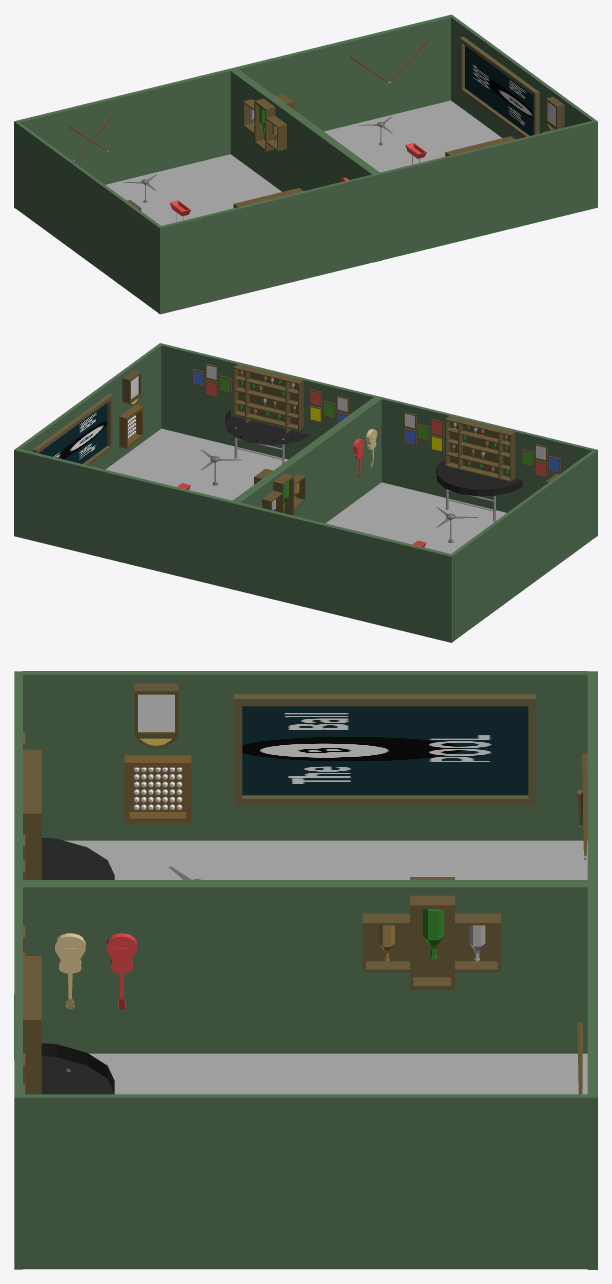
The model's file is level4.fbx.
The picture shows the model from 3 angles, top to bottom: view 1: azimuth 30°, elevation 25°; view 2: azimuth 150°, elevation 25°; view 3: azimuth 270°, elevation 25°; orthographic projection. The views are drawn at different scales.
Visible parts, largest first — view 1: Front.001, Front.002, Plane.001, Plane.002, Side.001, Plane, Floor.002, Floor.001, Plane.035, Side.002, Plane.017, Plane.009 (+1 smaller); view 2: Plane.001, Plane.002, Side.001, Front.002, Front.001, Plane, Floor.001, Floor.002, Side.002, Plane.003, Plane.010, Plane.035 (+6 smaller); view 3: Side.002, Plane.009, Side.001, Plane.025, Floor.002, Floor.001, Plane.030, Plane.024, Plane.002, Front.002, Circle.027, Plane.023 (+9 smaller).
Boxes of the visible parts, bbox=[...] form: Front.001: bbox=[158, 174, 374, 314]; Front.002: bbox=[380, 120, 597, 259]; Plane.001: bbox=[14, 68, 235, 208]; Plane.002: bbox=[233, 14, 453, 131]; Side.001: bbox=[16, 122, 161, 312]; Plane: bbox=[230, 70, 378, 262]; Floor.002: bbox=[324, 100, 502, 172]; Floor.001: bbox=[105, 154, 281, 225]; Plane.035: bbox=[459, 36, 539, 137]; Side.002: bbox=[451, 16, 595, 139]; Plane.017: bbox=[243, 98, 286, 151]; Plane.009: bbox=[234, 69, 382, 261]; Plane.001: bbox=[233, 501, 453, 642]; Plane.002: bbox=[14, 448, 234, 589]; Side.001: bbox=[451, 450, 595, 640]; Front.002: bbox=[159, 343, 375, 459]; Front.001: bbox=[381, 397, 597, 536]; Plane: bbox=[236, 396, 383, 523]; Floor.001: bbox=[326, 482, 506, 553]; Floor.002: bbox=[106, 428, 288, 500]; Side.002: bbox=[17, 344, 161, 469]; Plane.003: bbox=[233, 364, 303, 433]; Plane.010: bbox=[445, 416, 515, 481]; Plane.035: bbox=[33, 394, 112, 465]; Side.002: bbox=[22, 1094, 588, 1268]; Plane.009: bbox=[14, 883, 587, 1059]; Side.001: bbox=[22, 671, 587, 840]; Plane.025: bbox=[234, 694, 536, 805]; Floor.002: bbox=[23, 1053, 587, 1269]; Floor.001: bbox=[64, 840, 587, 879]; Plane.030: bbox=[362, 895, 500, 989]; Plane.024: bbox=[124, 755, 191, 823]; Plane.002: bbox=[587, 884, 597, 1269]; Front.002: bbox=[14, 887, 22, 1269]; Circle.027: bbox=[41, 1043, 114, 1094]; Plane.023: bbox=[134, 683, 178, 748].
Size of the model in its own units: 3030 by 570 by 1753.
36 materials, 1 textured.
